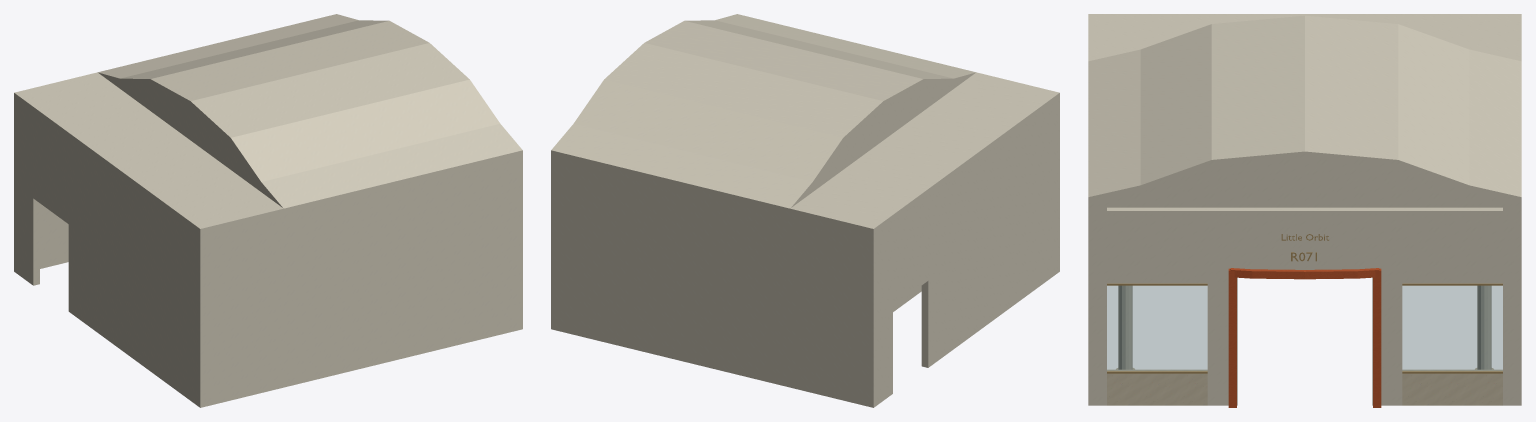
The model's file is SHOP_D09_S72_A262__shell.glb.
3 views of the same model, side by side, from view 1: azimuth 30°, elevation 25°; view 2: azimuth 150°, elevation 25°; view 3: azimuth 270°, elevation 25° (orthographic). The views are drawn at different scales.
Visible parts, largest first — view 1: SHOP_D09_S72_A262__shell__ivory_enamel; view 2: SHOP_D09_S72_A262__shell__ivory_enamel; view 3: SHOP_D09_S72_A262__shell__ivory_enamel, SHOP_D09_S72_A262__shell__shop_glass, SHOP_D09_S72_A262__shell__warm_stone, SHOP_D09_S72_A262__shell__retail_terracotta_enamel, SHOP_D09_S72_A262__shell__champagne_metal.
Boxes of the visible parts, x1=… form: SHOP_D09_S72_A262__shell__ivory_enamel: x1=14, y1=14, x2=522, y2=407; SHOP_D09_S72_A262__shell__ivory_enamel: x1=551, y1=14, x2=1059, y2=407; SHOP_D09_S72_A262__shell__ivory_enamel: x1=1088, y1=14, x2=1521, y2=405; SHOP_D09_S72_A262__shell__shop_glass: x1=1107, y1=286, x2=1502, y2=370; SHOP_D09_S72_A262__shell__warm_stone: x1=1107, y1=368, x2=1502, y2=405; SHOP_D09_S72_A262__shell__retail_terracotta_enamel: x1=1228, y1=268, x2=1381, y2=407; SHOP_D09_S72_A262__shell__champagne_metal: x1=1107, y1=234, x2=1502, y2=373.
Size of the model in its own units: 11.86 by 7.5 by 11.6.
Materials: 6 (4 with a texture image).
